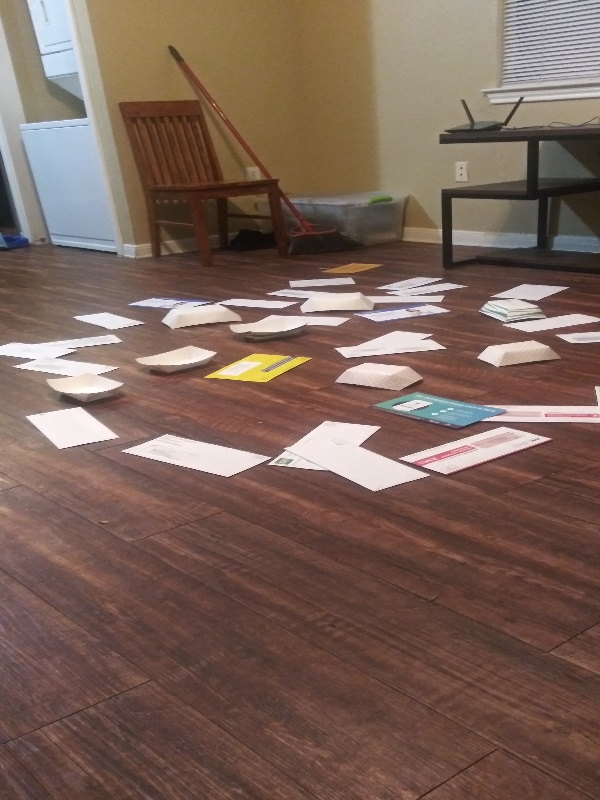plate: (132, 341, 223, 378), (332, 360, 427, 393), (473, 339, 567, 371), (47, 370, 131, 403), (226, 313, 317, 341), (160, 303, 243, 331), (475, 296, 548, 327), (298, 292, 380, 316)
